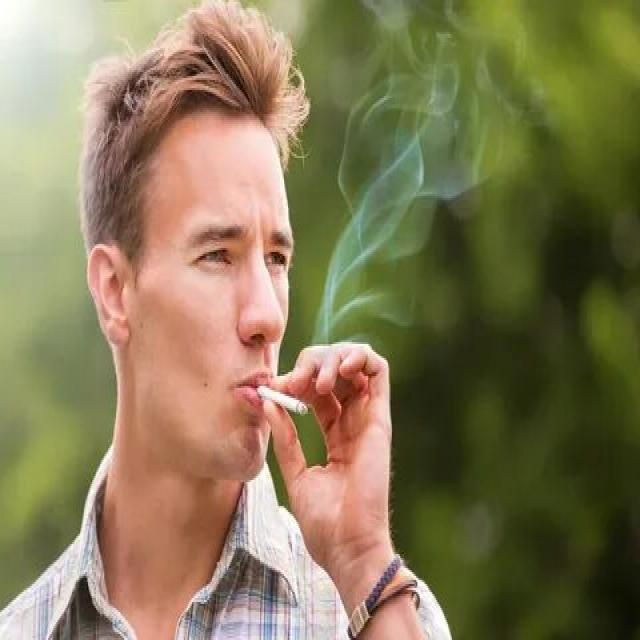cigarette: (256, 380, 311, 418)
